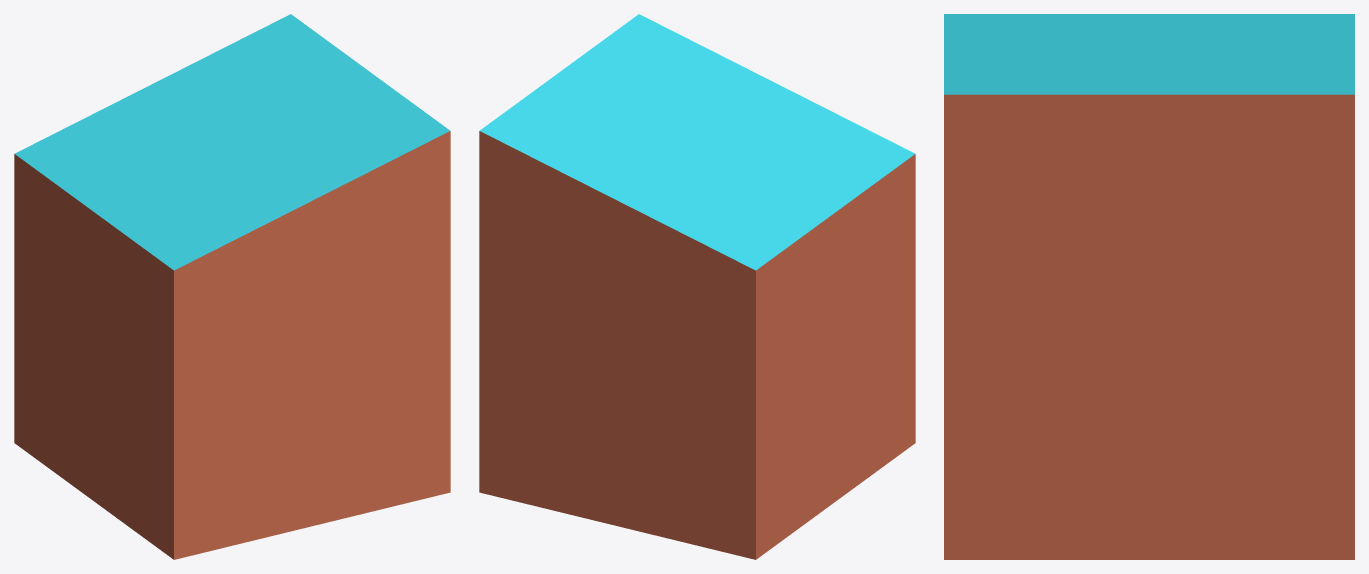
Rendered from prop-r2.glb.
The picture shows the model from 3 angles, left to right: view 1: azimuth 30°, elevation 25°; view 2: azimuth 150°, elevation 25°; view 3: azimuth 270°, elevation 25°; orthographic projection. The views are drawn at different scales.
Parts seen in each view (by area): view 1: Prototype export; view 2: Prototype export; view 3: Prototype export.
Part boxes in pixels (x1,y1,x2,y2): Prototype export: (14, 14, 450, 559); Prototype export: (479, 14, 915, 559); Prototype export: (944, 14, 1354, 559).
Size of the model in its own units: 1 by 1.25 by 1.
